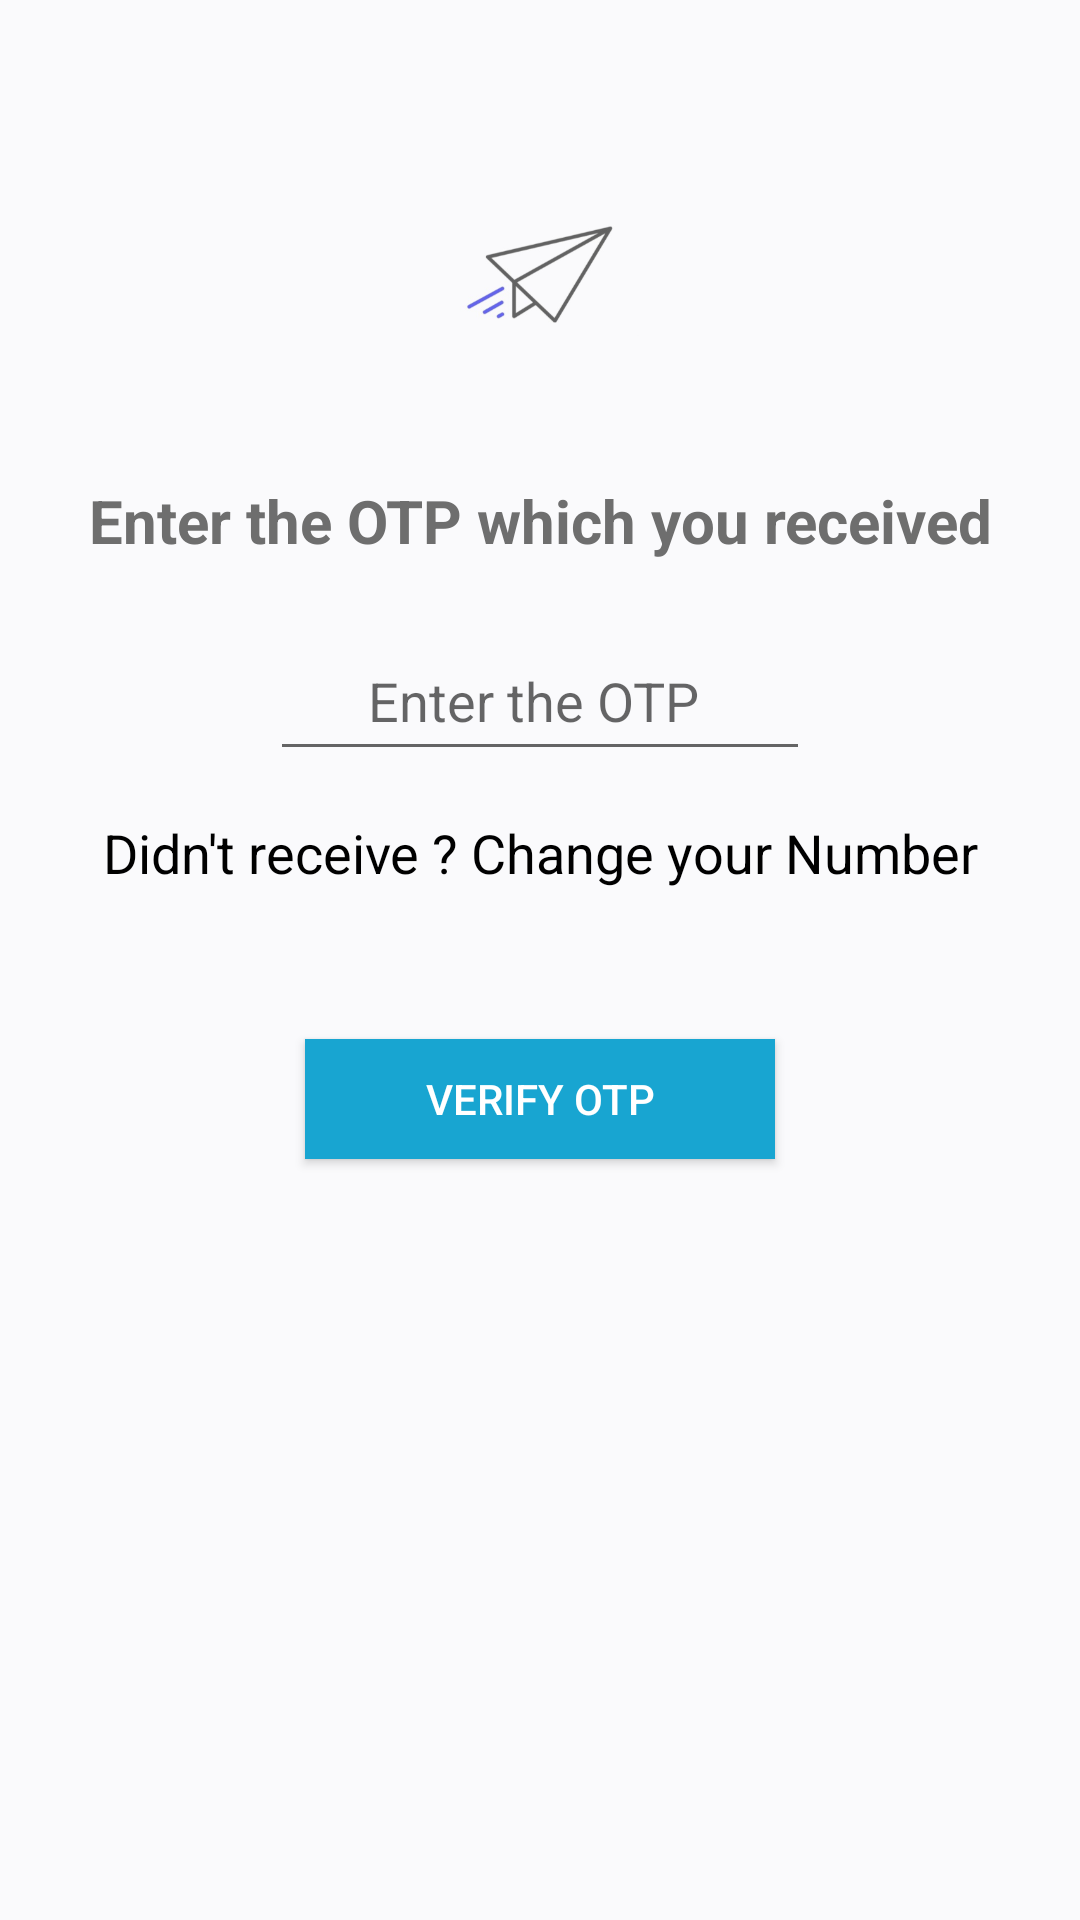

Locate icon controls on the screen. Image size 1080px×1920px, boxes as (x1, y1, x2, y2).
aero: (467, 226, 613, 323)
